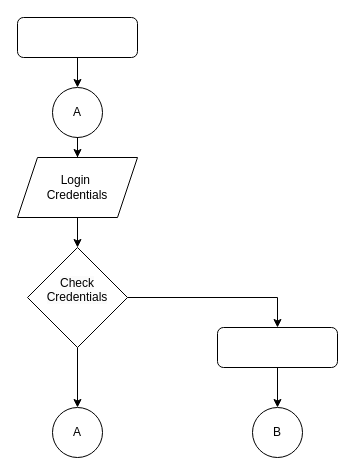
The diagram is 355 pixels wide and 475 high, and some of its shapes have lost their labels. The shapes that lost their labels are listed below. From the top down, each one's centre as x and y in pixels, then its label:
pixel 77 37: Start
pixel 277 347: Dashboard
